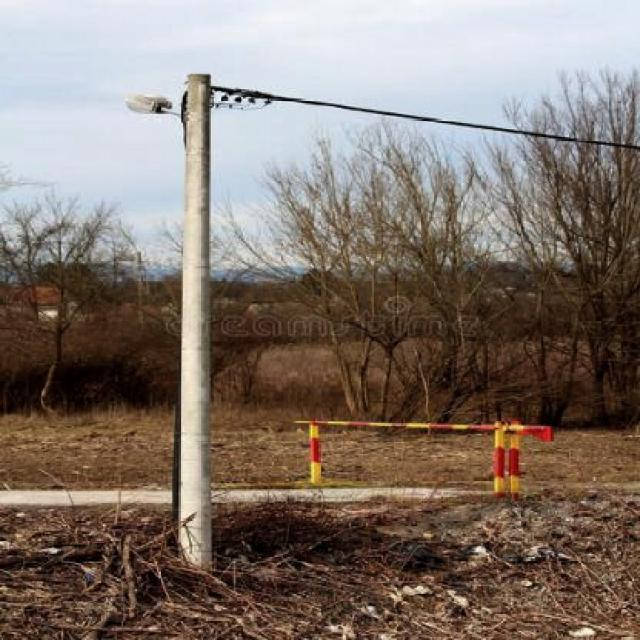pole: (174, 74, 215, 572)
wire: (212, 83, 640, 153)
